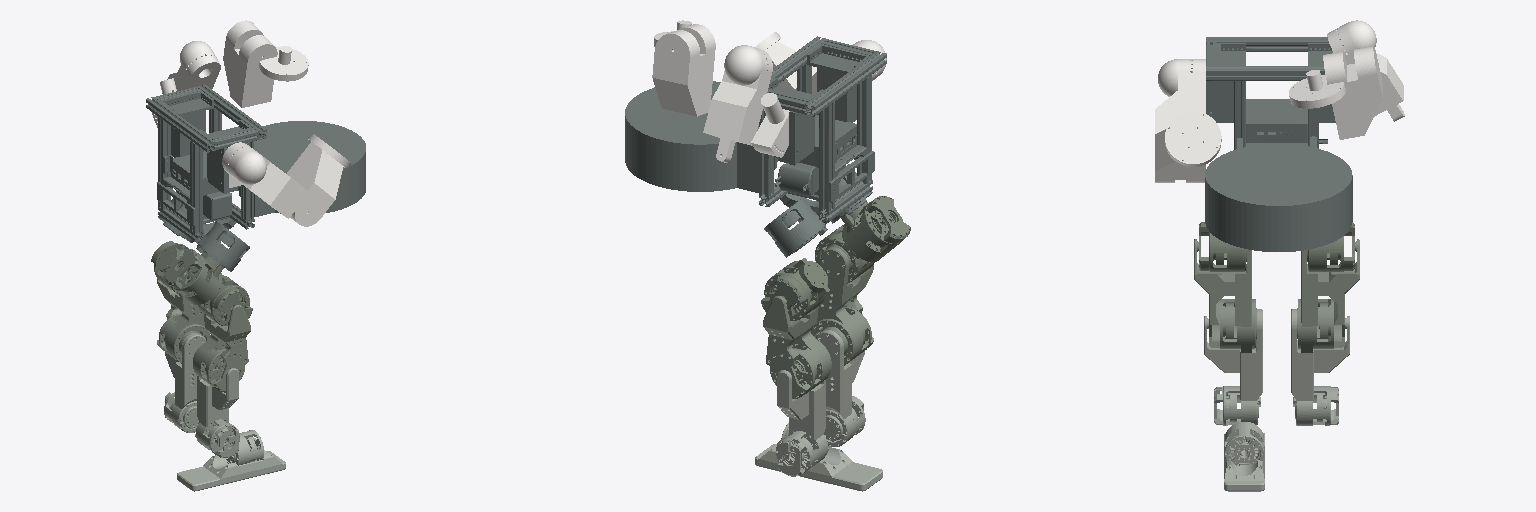
--- Render facts (derived) ---
Views: 3 orthographic renders of the robot side by side, from view 1: azimuth 30°, elevation 25°; view 2: azimuth 150°, elevation 25°; view 3: azimuth 270°, elevation 25°.
Robot: our_robot_251116 — 26 links, 25 joints (20 revolute, 5 fixed); root link base; default pose: all joints at 0.
Links seen in each view (by area): view 1: base, arm_left_fore_arm, arm_right_upper_arm, leg_right_hip_pitch, leg_right_ankle_roll, arm_right_fore_arm, leg_right_knee_pitch, leg_left_knee_pitch, leg_right_hip_roll, leg_left_hip_pitch, arm_left_upper_arm, leg_right_hip_yaw (+2 smaller); view 2: base, arm_left_upper_arm, arm_left_fore_arm, leg_left_hip_pitch, leg_left_knee_pitch, leg_right_hip_pitch, leg_right_knee_pitch, leg_right_hip_roll, leg_left_hip_yaw, leg_right_ankle_roll, arm_left_elbow_arm, leg_right_hip_yaw (+1 smaller); view 3: base, leg_left_hip_pitch, leg_right_hip_pitch, arm_left_fore_arm, leg_left_knee_pitch, leg_right_knee_pitch, leg_right_ankle_roll, arm_right_upper_arm, arm_right_wrist_attachement, arm_left_upper_arm, arm_left_wrist_attachment, leg_right_hip_yaw (+2 smaller).
Link boxes in pixels (x1,y1,x2,y2): base: (146,84,365,271); arm_left_fore_arm: (223,20,277,107); arm_right_upper_arm: (222,142,308,218); leg_right_hip_pitch: (193,305,250,392); leg_right_ankle_roll: (177,430,285,491); arm_right_fore_arm: (287,142,343,226); leg_right_knee_pitch: (195,368,239,457); leg_left_knee_pitch: (164,334,205,432); leg_right_hip_roll: (165,249,223,304); leg_left_hip_pitch: (157,279,210,363); arm_left_upper_arm: (162,41,220,93); leg_right_hip_yaw: (198,275,252,325); base: (625,36,886,257); arm_left_upper_arm: (703,45,772,162); arm_left_fore_arm: (652,24,715,116); leg_left_hip_pitch: (763,296,831,398); leg_left_knee_pitch: (776,370,828,476); leg_right_hip_pitch: (811,247,873,365); leg_right_knee_pitch: (816,330,865,446); leg_right_hip_roll: (841,196,910,261); leg_left_hip_yaw: (761,258,829,320); leg_right_ankle_roll: (755,423,882,491); arm_left_elbow_arm: (751,93,789,157); leg_right_hip_yaw: (815,225,874,283); base: (1205,37,1352,251); leg_left_hip_pitch: (1297,239,1359,352); leg_right_hip_pitch: (1194,239,1256,352); arm_left_fore_arm: (1323,46,1382,139); leg_left_knee_pitch: (1291,309,1349,425); leg_right_knee_pitch: (1204,309,1262,425); leg_right_ankle_roll: (1224,422,1264,491); arm_right_upper_arm: (1155,59,1205,133); arm_right_wrist_attachement: (1165,111,1221,166); arm_left_upper_arm: (1327,20,1404,121); arm_left_wrist_attachment: (1289,70,1345,108); leg_right_hip_yaw: (1199,222,1246,271).
Size in the robot's own frame: 0.4913 by 0.4411 by 0.8868 metres.
17 mesh visuals loaded from 22 distinct referenced files (17 binary STL); not drawn: 5 (reference not matched to a file when rendering).

The robot description file, URDF, robot "our_robot_251116":
<?xml version="1.0" ?>
<!-- Generated using onshape-to-robot -->
<!-- Onshape https://cad.onshape.com/documents/b79563c6b118af5153e16b95/w/07852d0b8411373f3cccadf1/e/af8d9cc5bcfd9d9f97125859 -->
<!-- robot name="my-robot2" -->
<robot name = "our_robot_251116">
  <!-- Link base -->
  <link name="base">
    <inertial>
      <origin xyz="0.0301256 0.000805373 0.658389" rpy="0 0 0"/>
      <mass value="4.42875"/>
      <inertia ixx="0.0542572" ixy="-0.000418288" ixz="-0.000518312" iyy="0.0707136" iyz="1.73031e-05" izz="0.0573367"/>
    </inertial>
    <!-- Part base_parts -->
    <visual>
      <origin xyz="0.0301256 0.000805373 0.658389" rpy="0 -0 0"/>
      <geometry>
        <mesh filename="package://assets/merged/base_visual.stl"/>
      </geometry>
      <material name="base_parts_material">
        <color rgba="0.487065 0.525828 0.516644 0.886298"/>
      </material>
    </visual>
  </link>
  <!-- Frame trunk (dummy link + fixed joint) -->
  <link name="trunk">
    <origin xyz="0 0 0" rpy="0 -0 0"/>
    <inertial>
      <origin xyz="0 0 0" rpy="0 0 0"/>
      <mass value="1e-9"/>
      <inertia ixx="0" ixy="0" ixz="0" iyy="0" iyz="0" izz="0"/>
    </inertial>
  </link>
  <joint name="trunk_frame" type="fixed">
    <origin xyz="-0.00025 2.39394e-17 0.7205" rpy="-5.13117e-16 1.13243e-14 -1.20616e-15"/>
    <parent link="base"/>
    <child link="trunk"/>
    <axis xyz="0 0 0"/>
  </joint>
  <!-- Link imu_2 -->
  <link name="imu_2">
    <inertial>
      <origin xyz="2.95445e-18 9.72026e-19 0.0025" rpy="0 0 0"/>
      <mass value="0.00197704"/>
      <inertia ixx="1.11441e-07" ixy="-4.0275e-38" ixz="0" iyy="4.06118e-08" iyz="0" izz="1.43815e-07"/>
    </inertial>
    <!-- Part imu_2_parts -->
    <visual>
      <origin xyz="0 9.72026e-19 0.0025" rpy="6.12323e-17 -1.13243e-14 1.20616e-15"/>
      <geometry>
        <mesh filename="package://assets/merged/imu_2_visual.stl"/>
      </geometry>
      <material name="imu_2_parts_material">
        <color rgba="0.141176 0.694118 0.65098 1"/>
      </material>
    </visual>
  </link>
  <!-- Frame imu (dummy link + fixed joint) -->
  <link name="imu">
    <origin xyz="0 0 0" rpy="0 -0 0"/>
    <inertial>
      <origin xyz="0 0 0" rpy="0 0 0"/>
      <mass value="1e-9"/>
      <inertia ixx="0" ixy="0" ixz="0" iyy="0" iyz="0" izz="0"/>
    </inertial>
  </link>
  <joint name="imu_frame" type="fixed">
    <origin xyz="0 -6.33816e-19 0.005" rpy="0 -0 -9.54491e-32"/>
    <parent link="imu_2"/>
    <child link="imu"/>
    <axis xyz="0 0 0"/>
  </joint>
  <!-- Joint from base to imu_2 -->
  <joint name="imu" type="fixed">
    <origin xyz="0.061722 -5.97549e-17 0.68" rpy="-6.12323e-17 1.13243e-14 -1.20616e-15"/>
    <parent link="base"/>
    <child link="imu_2"/>
    <axis xyz="0 0 1"/>
    <limit effort="20" velocity="15"/>
    <joint_properties friction="0.1"/>
  </joint>
  <!-- Link leg_left_hip_roll -->
  <link name="leg_left_hip_roll">
    <inertial>
      <origin xyz="-0.00410941 -0.000112596 -0.0464623" rpy="0 0 0"/>
      <mass value="0.83786"/>
      <inertia ixx="0.000979918" ixy="6.45954e-06" ixz="-1.63173e-05" iyy="0.000896043" iyz="-5.43389e-06" izz="0.000727678"/>
    </inertial>
    <!-- Part leg_left_hip_roll_parts -->
    <visual>
      <origin xyz="-0.00410941 -0.000112596 -0.0464623" rpy="-3.37047e-15 -0.785398 1.29382e-14"/>
      <geometry>
        <mesh filename="package://assets/merged/leg_left_hip_roll_visual.stl"/>
      </geometry>
      <material name="leg_left_hip_roll_parts_material">
        <color rgba="0.514202 0.546917 0.498371 0.699497"/>
      </material>
    </visual>
  </link>
  <!-- Link leg_left_hip_yaw -->
  <link name="leg_left_hip_yaw">
    <inertial>
      <origin xyz="-0.00411632 -8.63203e-05 0.0463382" rpy="0 0 0"/>
      <mass value="0.837683"/>
      <inertia ixx="0.000979031" ixy="-1.13217e-06" ixz="1.96352e-05" iyy="0.000898166" iyz="-5.91541e-06" izz="0.000724287"/>
    </inertial>
    <!-- Part leg_left_hip_yaw_parts -->
    <visual>
      <origin xyz="-0.00411632 -8.63203e-05 0.0463382" rpy="-3.14159 -0.785398 -1.5708"/>
      <geometry>
        <mesh filename="package://assets/merged/leg_left_hip_yaw_visual.stl"/>
      </geometry>
      <material name="leg_left_hip_yaw_parts_material">
        <color rgba="0.514113 0.546836 0.49828 0.699434"/>
      </material>
    </visual>
  </link>
  <!-- Link leg_left_hip_pitch -->
  <link name="leg_left_hip_pitch">
    <inertial>
      <origin xyz="0.0030405 0.120388 0.0210924" rpy="0 0 0"/>
      <mass value="0.947974"/>
      <inertia ixx="0.00286449" ixy="0.00012235" ixz="-2.15676e-05" iyy="0.00102465" iyz="0.000265775" izz="0.00259958"/>
    </inertial>
    <!-- Part leg_left_hip_pitch_parts -->
    <visual>
      <origin xyz="0.0030405 0.120388 0.0210924" rpy="1.5708 -7.51238e-15 -6.41154e-15"/>
      <geometry>
        <mesh filename="package://assets/merged/leg_left_hip_pitch_visual.stl"/>
      </geometry>
      <material name="leg_left_hip_pitch_parts_material">
        <color rgba="0.562885 0.5918 0.548895 0.734403"/>
      </material>
    </visual>
  </link>
  <!-- Link leg_left_knee_pitch -->
  <link name="leg_left_knee_pitch">
    <inertial>
      <origin xyz="-4.14041e-05 -0.112249 0.0257397" rpy="0 0 0"/>
      <mass value="0.653864"/>
      <inertia ixx="0.00230126" ixy="-4.24923e-07" ixz="1.36589e-06" iyy="0.000559753" iyz="3.7889e-05" izz="0.00203727"/>
    </inertial>
    <!-- Part leg_left_knee_pitch_parts -->
    <visual>
      <origin xyz="-4.14041e-05 -0.112249 0.0257397" rpy="1.5708 1.51122e-14 3.14159"/>
      <geometry>
        <mesh filename="package://assets/merged/leg_left_knee_pitch_visual.stl"/>
      </geometry>
      <material name="leg_left_knee_pitch_parts_material">
        <color rgba="0.664553 0.686049 0.654152 0.805901"/>
      </material>
    </visual>
  </link>
  <!-- Link leg_left_ankle_pitch -->
  <link name="leg_left_ankle_pitch">
    <inertial>
      <origin xyz="0.0131065 0.0273743 0.0274153" rpy="0 0 0"/>
      <mass value="0.106196"/>
      <inertia ixx="0.000188241" ixy="-2.50802e-05" ixz="-7.26755e-06" iyy="0.000142962" iyz="-7.72963e-06" izz="8.17202e-05"/>
    </inertial>
    <!-- Part leg_left_ankle_pitch_parts -->
    <visual>
      <origin xyz="0.0131065 0.0273743 0.0274153" rpy="1.5708 -3.63091e-15 -2.10124e-13"/>
      <geometry>
        <mesh filename="package://assets/merged/leg_left_ankle_pitch_visual.stl"/>
      </geometry>
      <material name="leg_left_ankle_pitch_parts_material">
        <color rgba="0.866867 0.866867 0.866867 0.928786"/>
      </material>
    </visual>
  </link>
  <!-- Link leg_left_ankle_roll -->
  <link name="leg_left_ankle_roll">
    <inertial>
      <origin xyz="2.29341e-05 0.0226611 0.0197836" rpy="0 0 0"/>
      <mass value="0.706476"/>
      <inertia ixx="0.00198705" ixy="5.37011e-07" ixz="-8.3949e-07" iyy="0.00190341" iyz="0.000143151" izz="0.000619673"/>
    </inertial>
    <!-- Part leg_left_ankle_roll_parts -->
    <visual>
      <origin xyz="2.29341e-05 0.0226611 0.0197836" rpy="1.5708 -1.5708 0"/>
      <geometry>
        <mesh filename="package://assets/merged/leg_left_ankle_roll_visual.stl"/>
      </geometry>
      <material name="leg_left_ankle_roll_parts_material">
        <color rgba="0.694564 0.714459 0.684938 0.831061"/>
      </material>
    </visual>
  </link>
  <!-- Frame left_foot (dummy link + fixed joint) -->
  <link name="left_foot">
    <origin xyz="0 0 0" rpy="0 -0 0"/>
    <inertial>
      <origin xyz="0 0 0" rpy="0 0 0"/>
      <mass value="1e-9"/>
      <inertia ixx="0" ixy="0" ixz="0" iyy="0" iyz="0" izz="0"/>
    </inertial>
  </link>
  <joint name="left_foot_frame" type="fixed">
    <origin xyz="1.57444e-14 0.0475 0.006" rpy="1.5708 -1.5708 0"/>
    <parent link="leg_left_ankle_roll"/>
    <child link="left_foot"/>
    <axis xyz="0 0 0"/>
  </joint>
  <!-- Joint from leg_left_ankle_pitch to leg_left_ankle_roll -->
  <joint name="leg_left_ankle_roll_joint" type="revolute">
    <origin xyz="0.03 0.05 0.025" rpy="5.04871e-29 1.5708 0"/>
    <parent link="leg_left_ankle_pitch"/>
    <child link="leg_left_ankle_roll"/>
    <axis xyz="0 0 1"/>
    <limit effort="20" velocity="15" lower="-0.261799" upper="0.261799"/>
    <joint_properties friction="0.1"/>
  </joint>
  <!-- Joint from leg_left_knee_pitch to leg_left_ankle_pitch -->
  <joint name="leg_left_ankle_pitch_joint" type="revolute">
    <origin xyz="-2.42341e-15 -0.16 -0.003" rpy="-1.42161e-14 1.87431e-14 -3.14159"/>
    <parent link="leg_left_knee_pitch"/>
    <child link="leg_left_ankle_pitch"/>
    <axis xyz="0 0 1"/>
    <limit effort="20" velocity="15" lower="-0.785398" upper="0.785398"/>
    <joint_properties friction="0.1"/>
  </joint>
  <!-- Joint from leg_left_hip_pitch to leg_left_knee_pitch -->
  <joint name="leg_left_knee_pitch_joint" type="revolute">
    <origin xyz="4.09395e-16 0.15 -0.018" rpy="-2.06358e-14 2.26246e-14 -3.14159"/>
    <parent link="leg_left_hip_pitch"/>
    <child link="leg_left_knee_pitch"/>
    <axis xyz="0 0 1"/>
    <limit effort="20" velocity="15" lower="-2.63789e-13" upper="2.44346"/>
    <joint_properties friction="0.1"/>
  </joint>
  <!-- Joint from leg_left_hip_yaw to leg_left_hip_pitch -->
  <joint name="leg_left_hip_pitch_joint" type="revolute">
    <origin xyz="0.027 -5.55112e-17 0.052" rpy="1.5708 -0.785398 -1.5708"/>
    <parent link="leg_left_hip_yaw"/>
    <child link="leg_left_hip_pitch"/>
    <axis xyz="0 0 1"/>
    <limit effort="20" velocity="15" lower="-1.89805" upper="0.981748"/>
    <joint_properties friction="0.1"/>
  </joint>
  <!-- Joint from leg_left_hip_roll to leg_left_hip_yaw -->
  <joint name="leg_left_hip_yaw_joint" type="revolute">
    <origin xyz="0.027 9.71445e-17 -0.052" rpy="-1.5708 1.18214e-15 -1.5708"/>
    <parent link="leg_left_hip_roll"/>
    <child link="leg_left_hip_yaw"/>
    <axis xyz="0 0 1"/>
    <limit effort="20" velocity="15" lower="-0.981748" upper="0.589049"/>
    <joint_properties friction="0.1"/>
  </joint>
  <!-- Joint from base to leg_left_hip_roll -->
  <joint name="leg_left_hip_roll_joint" type="revolute">
    <origin xyz="-0.0290919 0.08 0.542631" rpy="5.54477e-16 0.785398 -1.02056e-14"/>
    <parent link="base"/>
    <child link="leg_left_hip_roll"/>
    <axis xyz="0 0 1"/>
    <limit effort="20" velocity="15" lower="-0.174533" upper="1.5708"/>
    <joint_properties friction="0.1"/>
  </joint>
  <!-- Link leg_right_hip_roll -->
  <link name="leg_right_hip_roll">
    <inertial>
      <origin xyz="0.00410941 -0.00018505 -0.0464478" rpy="0 0 0"/>
      <mass value="0.83786"/>
      <inertia ixx="0.000979766" ixy="-3.69135e-06" ixz="1.57667e-05" iyy="0.000896334" iyz="-4.74708e-06" izz="0.000727235"/>
    </inertial>
    <!-- Part leg_right_hip_roll_parts -->
    <visual>
      <origin xyz="0.00410941 -0.00018505 -0.0464478" rpy="-8.73661e-15 -0.785398 -3.14159"/>
      <geometry>
        <mesh filename="package://assets/merged/leg_right_hip_roll_visual.stl"/>
      </geometry>
      <material name="leg_right_hip_roll_parts_material">
        <color rgba="0.514202 0.546917 0.498371 0.699497"/>
      </material>
    </visual>
  </link>
  <!-- Link leg_right_hip_yaw -->
  <link name="leg_right_hip_yaw">
    <inertial>
      <origin xyz="0.00411632 -1.3851e-05 0.0463238" rpy="0 0 0"/>
      <mass value="0.837683"/>
      <inertia ixx="0.000978901" ixy="-1.63559e-06" ixz="-1.90847e-05" iyy="0.000898454" iyz="-5.23378e-06" izz="0.000723868"/>
    </inertial>
    <!-- Part leg_right_hip_yaw_parts -->
    <visual>
      <origin xyz="0.00411632 -1.3851e-05 0.0463238" rpy="3.14159 -0.785398 -1.5708"/>
      <geometry>
        <mesh filename="package://assets/merged/leg_right_hip_yaw_visual.stl"/>
      </geometry>
      <material name="leg_right_hip_yaw_parts_material">
        <color rgba="0.514113 0.546836 0.49828 0.699434"/>
      </material>
    </visual>
  </link>
  <!-- Link leg_right_hip_pitch -->
  <link name="leg_right_hip_pitch">
    <inertial>
      <origin xyz="0.00319928 0.120388 -0.0210924" rpy="0 0 0"/>
      <mass value="0.947974"/>
      <inertia ixx="0.00286448" ixy="0.000117078" ixz="2.6845e-05" iyy="0.00102371" iyz="-0.000265774" izz="0.00259864"/>
    </inertial>
    <!-- Part leg_right_hip_pitch_parts -->
    <visual>
      <origin xyz="0.00319928 0.120388 -0.0210924" rpy="1.5708 -6.12376e-16 1.36002e-15"/>
      <geometry>
        <mesh filename="package://assets/merged/leg_right_hip_pitch_visual.stl"/>
      </geometry>
      <material name="leg_right_hip_pitch_parts_material">
        <color rgba="0.562885 0.5918 0.548895 0.734403"/>
      </material>
    </visual>
  </link>
  <!-- Link leg_right_knee_pitch -->
  <link name="leg_right_knee_pitch">
    <inertial>
      <origin xyz="-5.09429e-05 0.112249 -0.0257397" rpy="0 0 0"/>
      <mass value="0.653864"/>
      <inertia ixx="0.00230126" ixy="1.34936e-06" ixz="-1.17826e-06" iyy="0.000559752" iyz="3.7889e-05" izz="0.00203727"/>
    </inertial>
    <!-- Part leg_right_knee_pitch_parts -->
    <visual>
      <origin xyz="-5.09429e-05 0.112249 -0.0257397" rpy="1.5708 -3.96107e-15 2.66454e-15"/>
      <geometry>
        <mesh filename="package://assets/merged/leg_right_knee_pitch_visual.stl"/>
      </geometry>
      <material name="leg_right_knee_pitch_parts_material">
        <color rgba="0.664553 0.686049 0.654152 0.805901"/>
      </material>
    </visual>
  </link>
  <!-- Link leg_right_ankle_pitch -->
  <link name="leg_right_ankle_pitch">
    <inertial>
      <origin xyz="0.0131065 0.0273743 -0.0274153" rpy="0 0 0"/>
      <mass value="0.106196"/>
      <inertia ixx="0.000188241" ixy="-2.50802e-05" ixz="7.26754e-06" iyy="0.000142962" iyz="7.72962e-06" izz="8.17203e-05"/>
    </inertial>
    <!-- Part leg_right_ankle_pitch_parts -->
    <visual>
      <origin xyz="0.0131065 0.0273743 -0.0274153" rpy="1.5708 -1.46608e-14 9.60065e-14"/>
      <geometry>
        <mesh filename="package://assets/merged/leg_right_ankle_pitch_visual.stl"/>
      </geometry>
      <material name="leg_right_ankle_pitch_parts_material">
        <color rgba="0.866867 0.866867 0.866867 0.928786"/>
      </material>
    </visual>
  </link>
  <!-- Link leg_right_ankle_roll -->
  <link name="leg_right_ankle_roll">
    <inertial>
      <origin xyz="2.29341e-05 0.0226611 0.0197836" rpy="0 0 0"/>
      <mass value="0.706476"/>
      <inertia ixx="0.00198705" ixy="5.37011e-07" ixz="-8.3949e-07" iyy="0.00190341" iyz="0.000143151" izz="0.000619673"/>
    </inertial>
    <!-- Part leg_right_ankle_roll_parts -->
    <visual>
      <origin xyz="2.29341e-05 0.0226611 0.0197836" rpy="1.5708 -1.5708 0"/>
      <geometry>
        <mesh filename="package://assets/merged/leg_right_ankle_roll_visual.stl"/>
      </geometry>
      <material name="leg_right_ankle_roll_parts_material">
        <color rgba="0.694564 0.714459 0.684938 0.831061"/>
      </material>
    </visual>
  </link>
  <!-- Frame right_foot (dummy link + fixed joint) -->
  <link name="right_foot">
    <origin xyz="0 0 0" rpy="0 -0 0"/>
    <inertial>
      <origin xyz="0 0 0" rpy="0 0 0"/>
      <mass value="1e-9"/>
      <inertia ixx="0" ixy="0" ixz="0" iyy="0" iyz="0" izz="0"/>
    </inertial>
  </link>
  <joint name="right_foot_frame" type="fixed">
    <origin xyz="8.59729e-15 0.0475 0.006" rpy="1.5708 -1.5708 0"/>
    <parent link="leg_right_ankle_roll"/>
    <child link="right_foot"/>
    <axis xyz="0 0 0"/>
  </joint>
  <!-- Joint from leg_right_ankle_pitch to leg_right_ankle_roll -->
  <joint name="leg_right_ankle_roll_joint" type="revolute">
    <origin xyz="0.03 0.05 -0.025" rpy="-6.80837e-17 1.5708 0"/>
    <parent link="leg_right_ankle_pitch"/>
    <child link="leg_right_ankle_roll"/>
    <axis xyz="0 0 1"/>
    <limit effort="20" velocity="15" lower="-0.261799" upper="0.261799"/>
    <joint_properties friction="0.1"/>
  </joint>
  <!-- Joint from leg_right_knee_pitch to leg_right_ankle_pitch -->
  <joint name="leg_right_ankle_pitch_joint" type="revolute">
    <origin xyz="1.37911e-15 0.16 0.003" rpy="1.12133e-14 1.06998e-14 -9.3342e-14"/>
    <parent link="leg_right_knee_pitch"/>
    <child link="leg_right_ankle_pitch"/>
    <axis xyz="0 0 1"/>
    <limit effort="20" velocity="15" lower="-0.785398" upper="0.785398"/>
    <joint_properties friction="0.1"/>
  </joint>
  <!-- Joint from leg_right_hip_pitch to leg_right_knee_pitch -->
  <joint name="leg_right_knee_pitch_joint" type="revolute">
    <origin xyz="-2.77556e-17 0.15 0.018" rpy="3.28904e-15 3.34869e-15 -1.30451e-15"/>
    <parent link="leg_right_hip_pitch"/>
    <child link="leg_right_knee_pitch"/>
    <axis xyz="0 0 1"/>
    <limit effort="20" velocity="15" lower="-1.1191e-13" upper="2.44346"/>
    <joint_properties friction="0.1"/>
  </joint>
  <!-- Joint from leg_right_hip_yaw to leg_right_hip_pitch -->
  <joint name="leg_right_hip_pitch_joint" type="revolute">
    <origin xyz="-0.027 1.22125e-15 0.052" rpy="1.5708 -0.785398 -1.5708"/>
    <parent link="leg_right_hip_yaw"/>
    <child link="leg_right_hip_pitch"/>
    <axis xyz="0 0 1"/>
    <limit effort="20" velocity="15" lower="-1.89805" upper="0.981748"/>
    <joint_properties friction="0.1"/>
  </joint>
  <!-- Joint from leg_right_hip_roll to leg_right_hip_yaw -->
  <joint name="leg_right_hip_yaw_joint" type="revolute">
    <origin xyz="-0.027 3.46945e-16 -0.052" rpy="-1.5708 2.67807e-15 1.5708"/>
    <parent link="leg_right_hip_roll"/>
    <child link="leg_right_hip_yaw"/>
    <axis xyz="0 0 1"/>
    <limit effort="20" velocity="15" lower="-0.589049" upper="0.981748"/>
    <joint_properties friction="0.1"/>
  </joint>
  <!-- Joint from base to leg_right_hip_roll -->
  <joint name="leg_right_hip_roll_joint" type="revolute">
    <origin xyz="-0.0290919 -0.08 0.542631" rpy="7.85621e-15 -0.785398 3.14159"/>
    <parent link="base"/>
    <child link="leg_right_hip_roll"/>
    <axis xyz="0 0 1"/>
    <limit effort="20" velocity="15" lower="-1.5708" upper="0.174533"/>
    <joint_properties friction="0.1"/>
  </joint>
  <!-- Link arm_left_elbow_arm -->
  <link name="arm_left_elbow_arm">
    <inertial>
      <origin xyz="0.0260333 0.019509 -0.02" rpy="0 0 0"/>
      <mass value="0.228815"/>
      <inertia ixx="0.000178726" ixy="-1.14661e-05" ixz="4.44126e-13" iyy="0.000111624" iyz="3.09794e-12" izz="0.000236059"/>
    </inertial>
    <!-- Part arm_left_elbow_arm_parts -->
    <visual>
      <origin xyz="0.0260333 0.019509 -0.02" rpy="1.5708 1.5708 0"/>
      <geometry>
        <mesh filename="package://assets/merged/arm_left_elbow_arm_visual.stl"/>
      </geometry>
      <material name="arm_left_elbow_arm_parts_material">
        <color rgba="0.945098 0.937255 0.92549 1"/>
      </material>
    </visual>
  </link>
  <!-- Link arm_left_upper_arm -->
  <link name="arm_left_upper_arm">
    <inertial>
      <origin xyz="0.0598557 -0.00527771 0.00921178" rpy="0 0 0"/>
      <mass value="1.0413"/>
      <inertia ixx="0.00102039" ixy="0.000164793" ixz="0.000150733" iyy="0.00287808" iyz="-1.32295e-05" izz="0.00269339"/>
    </inertial>
    <!-- Part arm_left_upper_arm_parts -->
    <visual>
      <origin xyz="0.0598557 -0.00527771 0.00921178" rpy="-2.60344 1.03902e-14 4.91903e-15"/>
      <geometry>
        <mesh filename="package://assets/merged/arm_left_upper_arm_visual.stl"/>
      </geometry>
      <material name="arm_left_upper_arm_parts_material">
        <color rgba="0.945098 0.937255 0.92549 1"/>
      </material>
    </visual>
  </link>
  <!-- Link arm_left_fore_arm -->
  <link name="arm_left_fore_arm">
    <inertial>
      <origin xyz="-0.0387703 -0.0195708 -0.0136404" rpy="0 0 0"/>
      <mass value="0.908672"/>
      <inertia ixx="0.00114677" ixy="-0.00037061" ixz="-0.000148811" iyy="0.00169388" iyz="-7.51182e-05" izz="0.00164558"/>
    </inertial>
    <!-- Part arm_left_fore_arm_parts -->
    <visual>
      <origin xyz="-0.0387703 -0.0195708 -0.0136404" rpy="0.538153 -1.1348e-14 -1.65869"/>
      <geometry>
        <mesh filename="package://assets/merged/arm_left_fore_arm_visual.stl"/>
      </geometry>
      <material name="arm_left_fore_arm_parts_material">
        <color rgba="0.945098 0.937255 0.92549 1"/>
      </material>
    </visual>
  </link>
  <!-- Link arm_left_wrist_attachment -->
  <link name="arm_left_wrist_attachment">
    <inertial>
      <origin xyz="3.77506e-17 7.00195e-17 -0.0349839" rpy="0 0 0"/>
      <mass value="0.16461"/>
      <inertia ixx="0.000104489" ixy="-1.18923e-18" ixz="-1.74489e-19" iyy="0.000104489" iyz="-4.33681e-19" izz="0.000184181"/>
    </inertial>
    <!-- Part arm_left_wrist_attachment_parts -->
    <visual>
      <origin xyz="3.46945e-18 0 -0.0349839" rpy="2.10895 0.555364 3.14159"/>
      <geometry>
        <mesh filename="package://assets/merged/arm_left_wrist_attachment_visual.stl"/>
      </geometry>
      <material name="arm_left_wrist_attachment_parts_material">
        <color rgba="0.945098 0.937255 0.92549 1"/>
      </material>
    </visual>
  </link>
  <!-- Joint from arm_left_fore_arm to arm_left_wrist_attachment -->
  <joint name="left_wrist_attachment_joint" type="revolute">
    <origin xyz="-0.0760988 -0.0384138 -0.0325" rpy="1.5708 1.02696e-15 2.03827"/>
    <parent link="arm_left_fore_arm"/>
    <child link="arm_left_wrist_attachment"/>
    <axis xyz="0 0 1"/>
    <limit effort="20" velocity="15" lower="-1.5708" upper="1.5708"/>
    <joint_properties friction="0.1"/>
  </joint>
  <!-- Joint from arm_left_upper_arm to arm_left_fore_arm -->
  <joint name="left_fore_arm_joint" type="revolute">
    <origin xyz="0.159382 -0.0140448 -0.005" rpy="-3.14159 -8.88178e-16 -1.65869"/>
    <parent link="arm_left_upper_arm"/>
    <child link="arm_left_fore_arm"/>
    <axis xyz="0 0 1"/>
    <limit effort="20" velocity="15" lower="-0.467471" upper="2.67412"/>
    <joint_properties friction="0.1"/>
  </joint>
  <!-- Joint from arm_left_elbow_arm to arm_left_upper_arm -->
  <joint name="left_upper_arm_joint" type="revolute">
    <origin xyz="0.0457796 -0.0425498 -0.02" rpy="-2.10895 1.5708 0"/>
    <parent link="arm_left_elbow_arm"/>
    <child link="arm_left_upper_arm"/>
    <axis xyz="0 0 1"/>
    <limit effort="20" velocity="15" lower="-3.0537" upper="0.087893"/>
    <joint_properties friction="0.1"/>
  </joint>
  <!-- Joint from base to arm_left_elbow_arm -->
  <joint name="left_shoulder_joint" type="revolute">
    <origin xyz="-0.02 0.115 0.7985" rpy="-1.5708 1.9082e-16 1.5708"/>
    <parent link="base"/>
    <child link="arm_left_elbow_arm"/>
    <axis xyz="0 0 1"/>
    <limit effort="20" velocity="15" lower="-0.712686" upper="1.03264"/>
    <joint_properties friction="0.1"/>
  </joint>
  <!-- Link arm_right_elbow_arm -->
  <link name="arm_right_elbow_arm">
    <inertial>
      <origin xyz="-0.00340814 0.032353 -0.02" rpy="0 0 0"/>
      <mass value="0.228815"/>
      <inertia ixx="0.000139345" ixy="3.49736e-05" ixz="-1.39088e-12" iyy="0.000151005" iyz="7.9832e-13" izz="0.000236059"/>
    </inertial>
    <!-- Part arm_right_elbow_arm_parts -->
    <visual>
      <origin xyz="-0.00340814 0.032353 -0.02" rpy="1.5708 -1.5708 0"/>
      <geometry>
        <mesh filename="package://assets/merged/arm_right_elbow_arm_visual.stl"/>
      </geometry>
      <material name="arm_right_elbow_arm_parts_material">
        <color rgba="0.945098 0.937255 0.92549 1"/>
      </material>
    </visual>
  </link>
  <!-- Link arm_right_upper_arm -->
  <link name="arm_right_upper_arm">
    <inertial>
      <origin xyz="0.0430481 0.0419219 0.00921181" rpy="0 0 0"/>
      <mass value="1.0413"/>
      <inertia ixx="0.00192394" ixy="-0.000943009" ixz="0.000108447" iyy="0.00197451" iyz="0.000105525" izz="0.00269338"/>
    </inertial>
    <!-- Part arm_right_upper_arm_parts -->
    <visual>
      <origin xyz="0.0430481 0.0419219 0.00921181" rpy="1.5708 -2.96916e-16 -1.13243e-14"/>
      <geometry>
        <mesh filename="package://assets/merged/arm_right_upper_arm_visual.stl"/>
      </geometry>
      <material name="arm_right_upper_arm_parts_material">
        <color rgba="0.945098 0.937255 0.92549 1"/>
      </material>
    </visual>
  </link>
  <!-- Link arm_right_fore_arm -->
  <link name="arm_right_fore_arm">
    <inertial>
      <origin xyz="0.0434265 -0.00053583 0.00635958" rpy="0 0 0"/>
      <mass value="0.908672"/>
      <inertia ixx="0.000959828" ixy="1.13656e-05" ixz="0.000166683" iyy="0.00188082" iyz="-2.05667e-06" izz="0.00164558"/>
    </inertial>
    <!-- Part arm_right_fore_arm_parts -->
    <visual>
      <origin xyz="0.0434265 -0.00053583 0.00635958" rpy="-1.5708 2.24084e-15 -0.798704"/>
      <geometry>
        <mesh filename="package://assets/merged/arm_right_fore_arm_visual.stl"/>
      </geometry>
      <material name="arm_right_fore_arm_parts_material">
        <color rgba="0.945098 0.937255 0.92549 1"/>
      </material>
    </visual>
  </link>
  <!-- Link arm_right_wrist_attachement -->
  <link name="arm_right_wrist_attachement">
    <inertial>
      <origin xyz="2.71081e-16 -1.59595e-15 -0.0349839" rpy="0 0 0"/>
      <mass value="0.16461"/>
      <inertia ixx="0.000104489" ixy="-5.6795e-20" ixz="-1.49078e-19" iyy="0.000104489" iyz="-8.68667e-20" izz="0.000184181"/>
    </inertial>
    <!-- Part arm_right_wrist_attachement_parts -->
    <visual>
      <origin xyz="2.22045e-16 -1.58207e-15 -0.0349839" rpy="3.14159 0.78443 3.14159"/>
      <geometry>
        <mesh filename="package://assets/merged/arm_right_wrist_attachement_visual.stl"/>
      </geometry>
      <material name="arm_right_wrist_attachement_parts_material">
        <color rgba="0.945098 0.937255 0.92549 1"/>
      </material>
    </visual>
  </link>
  <!-- Joint from arm_right_fore_arm to arm_right_wrist_attachement -->
  <joint name="right_wrist_attachment_joint" type="revolute">
    <origin xyz="0.0889932 -0.00109807 -0.0125" rpy="-1.5708 -1.31501e-15 1.55846"/>
    <parent link="arm_right_fore_arm"/>
    <child link="arm_right_wrist_attachement"/>
    <axis xyz="0 0 1"/>
    <limit effort="20" velocity="15" lower="-1.5708" upper="1.5708"/>
    <joint_properties friction="0.1"/>
  </joint>
  <!-- Joint from arm_right_upper_arm to arm_right_fore_arm -->
  <joint name="right_fore_arm_joint" type="revolute">
    <origin xyz="0.114632 0.111622 0.015" rpy="3.14159 1.61812e-15 -0.798704"/>
    <parent link="arm_right_upper_arm"/>
    <child link="arm_right_fore_arm"/>
    <axis xyz="0 0 1"/>
    <limit effort="20" velocity="15" lower="-3.12925" upper="0.0123381"/>
    <joint_properties friction="0.1"/>
  </joint>
  <!-- Joint from arm_right_elbow_arm to arm_right_upper_arm -->
  <joint name="right_upper_arm_joint" type="revolute">
    <origin xyz="0.06 0.0175 -0.02" rpy="7.35087e-20 -1.5708 0"/>
    <parent link="arm_right_elbow_arm"/>
    <child link="arm_right_upper_arm"/>
    <axis xyz="0 0 1"/>
    <limit effort="20" velocity="15" lower="-0.772092" upper="2.3695"/>
    <joint_properties friction="0.1"/>
  </joint>
  <!-- Joint from base to arm_right_elbow_arm -->
  <joint name="right_shoulder_joint" type="revolute">
    <origin xyz="0.02 -0.115 0.7985" rpy="-1.5708 -6.10696e-16 -1.5708"/>
    <parent link="base"/>
    <child link="arm_right_elbow_arm"/>
    <axis xyz="0 0 1"/>
    <limit effort="20" velocity="15" lower="-1.74533" upper="0"/>
    <joint_properties friction="0.1"/>
  </joint>
</robot>
